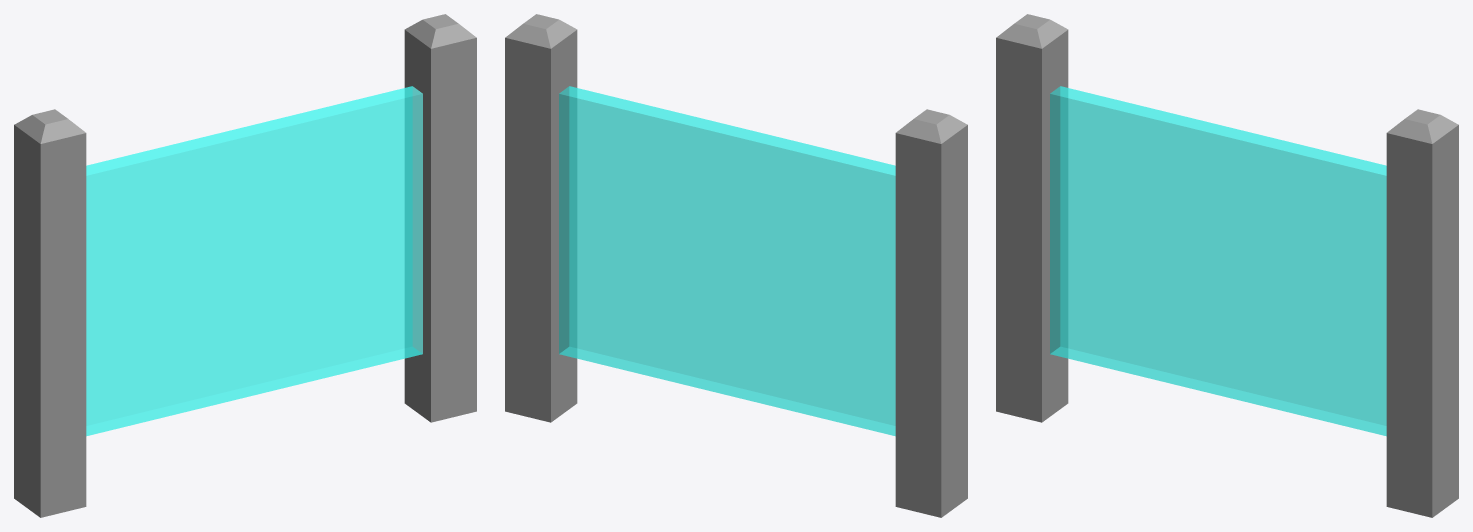
The model's file is Gate_Closed.fbx.
The picture shows the model from 3 angles, left to right: view 1: azimuth 30°, elevation 25°; view 2: azimuth 150°, elevation 25°; view 3: azimuth 330°, elevation 25°; orthographic projection.
Visible parts, largest first — view 1: closed_gate; view 2: closed_gate; view 3: closed_gate.
Boxes of the visible parts, x1,y1,x2,y2 form: closed_gate: (14, 14, 476, 517); closed_gate: (505, 14, 967, 517); closed_gate: (996, 14, 1458, 517).
Bounding box in the file's own units: 3.47 × 2.93 × 0.3647.
